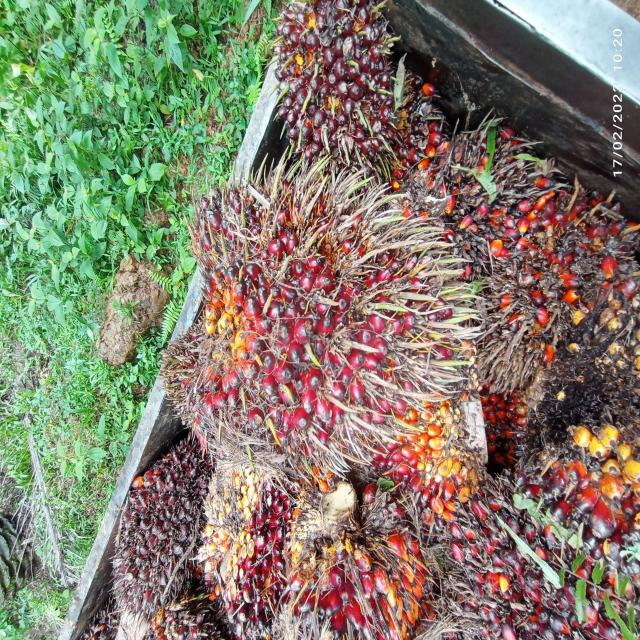fraksi 1: (136, 120, 494, 500), (96, 416, 215, 635), (264, 0, 410, 173)
fraksi 3: (260, 466, 422, 640)
